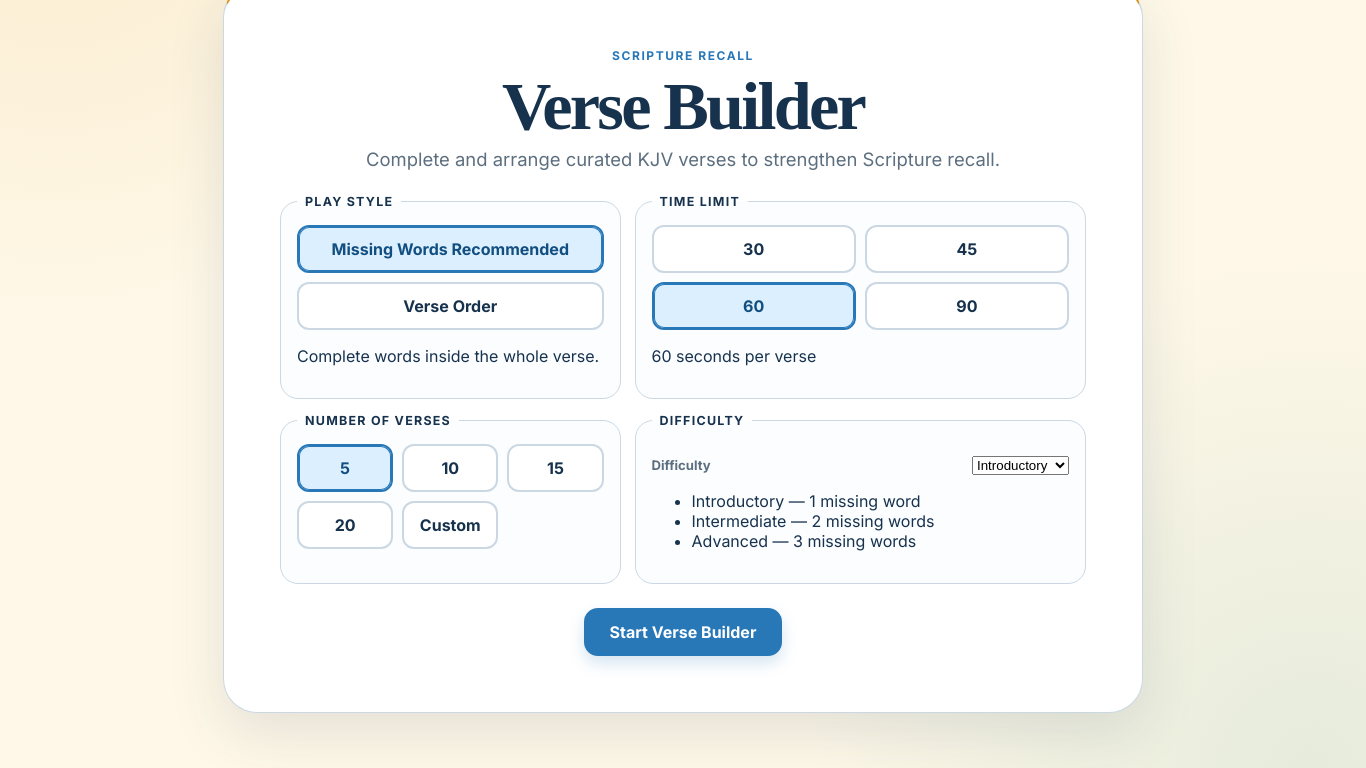
Verse Builder Quick Play › starts Missing Words with inline blanks and a visible citation
The image size is (1366, 768).
(page scrolled)
Step 1. Click the button "Start Verse Builder" → click(683, 632), box [584,608,782,656]
(page scrolled)
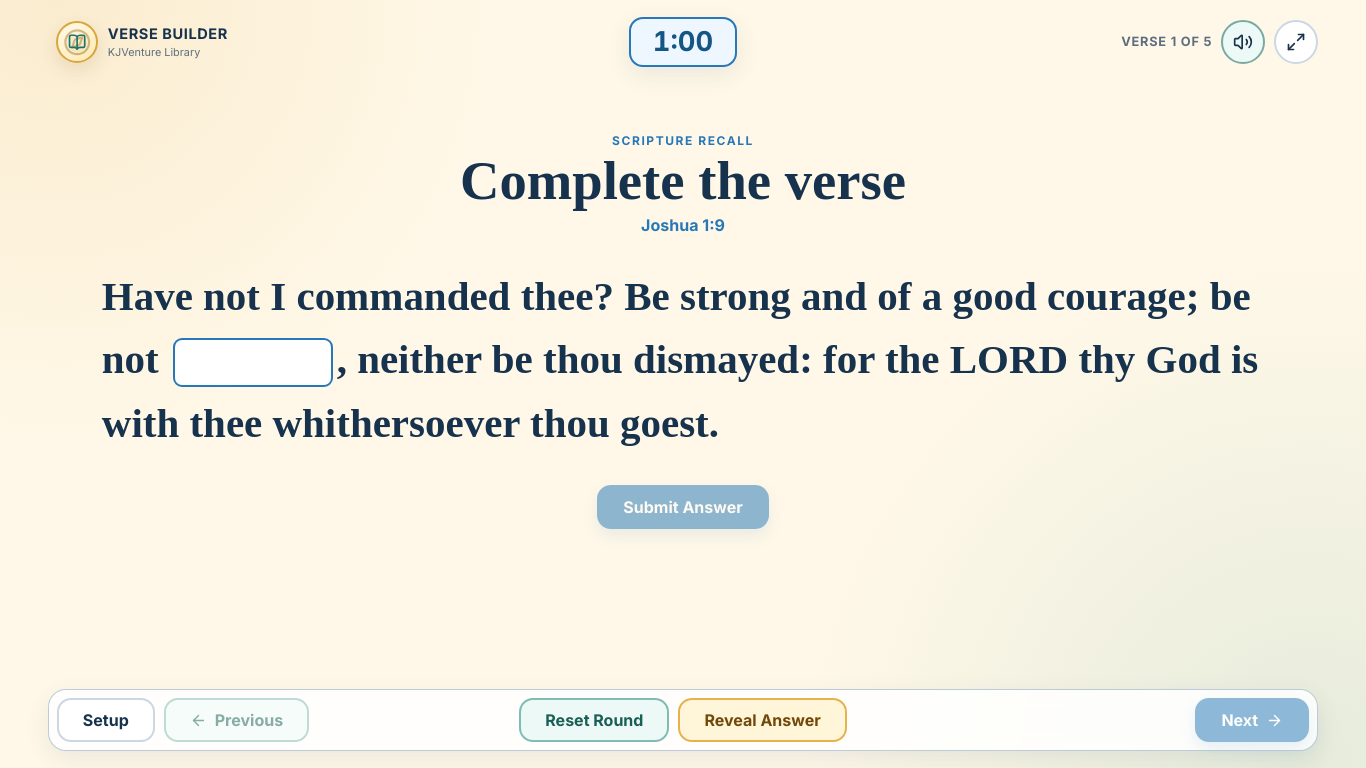
Check: the text "Joshua 1:9" is shown, box [641,215,725,235]
